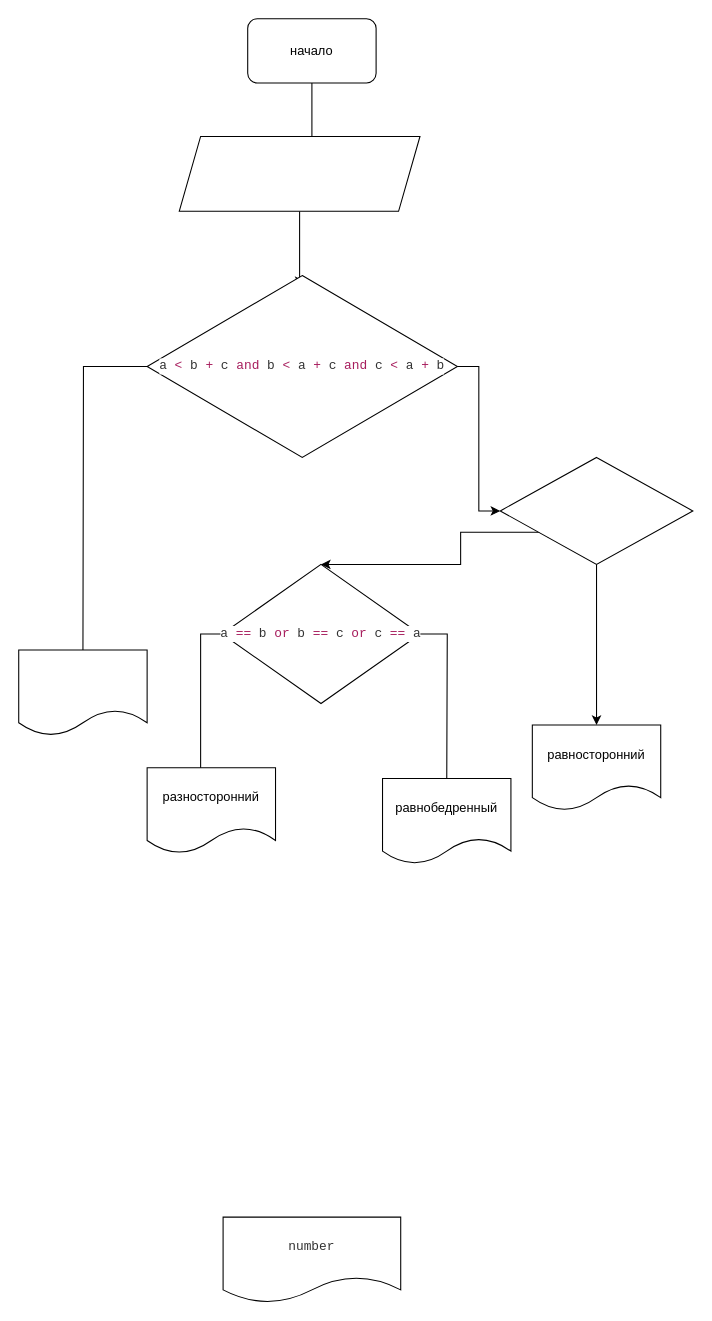
The diagram is 712 pixels wide and 1321 high, and some of its shapes have lost their labels. The box of each missing label's shape, as (x1, y1, x2, y2) in pixels:
a == b and b == c: (499, 456, 693, 564)
a b c: (178, 135, 420, 211)
не существует: (18, 649, 147, 736)
